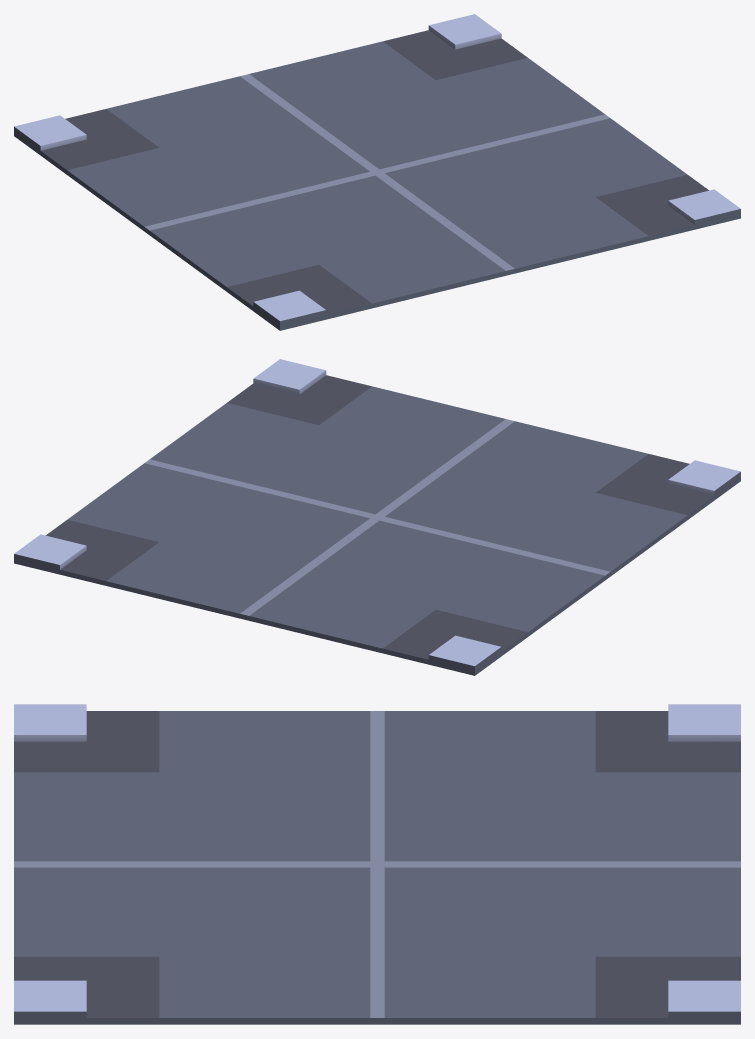
The model's file is road-crossroad-line.glb.
The picture shows the model from 3 angles, top to bottom: view 1: azimuth 30°, elevation 25°; view 2: azimuth 150°, elevation 25°; view 3: azimuth 270°, elevation 25°; orthographic projection. The views are drawn at different scales.
Parts seen in each view (by area): view 1: road-crossroad-line; view 2: road-crossroad-line; view 3: road-crossroad-line.
Boxes of the visible parts, <box> form: road-crossroad-line: <box>14,14,740,330</box>; road-crossroad-line: <box>14,359,740,675</box>; road-crossroad-line: <box>14,704,740,1024</box>.
Size of the model in its own units: 1 by 0.02 by 1.
1 material, 1 textured.
